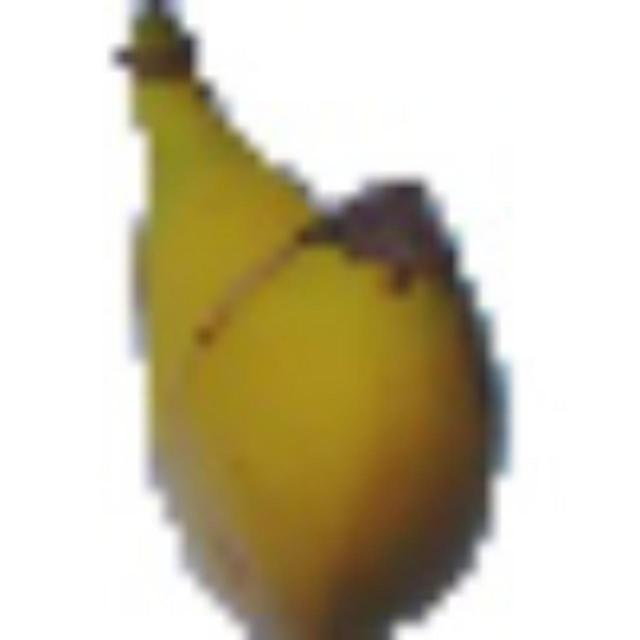banana: (96, 0, 506, 634)
